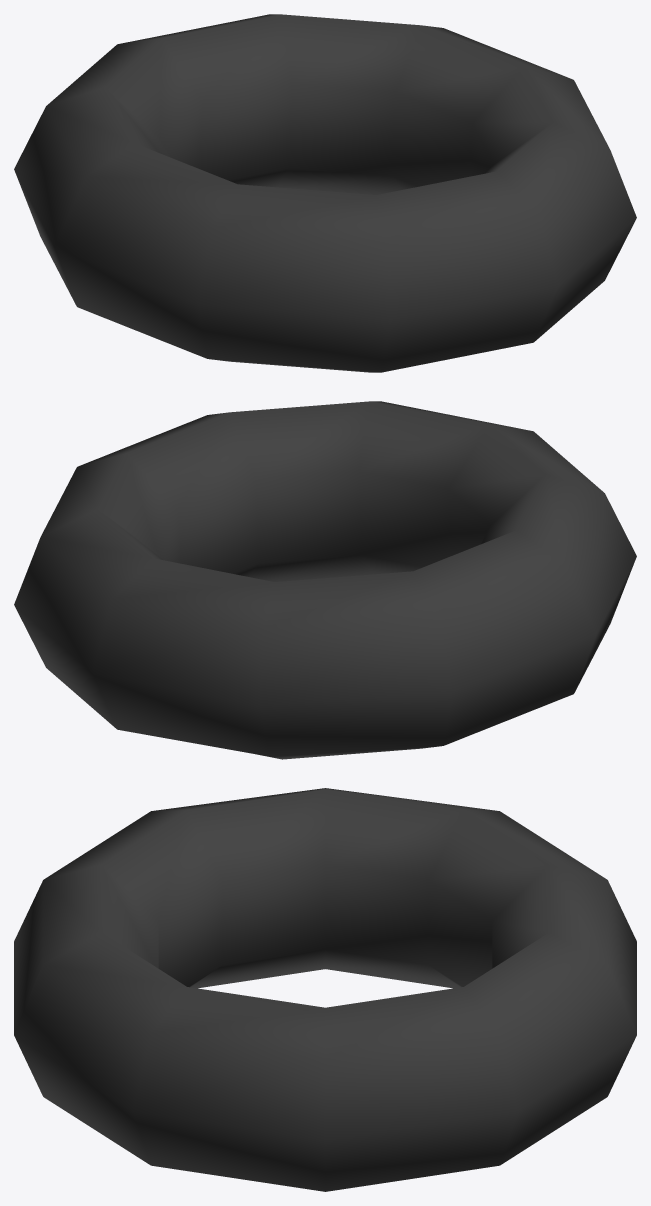
File: M_Shipwreak_Obstacle_Part_2.fbx
3 views of the same model, one above another, from view 1: azimuth 30°, elevation 25°; view 2: azimuth 150°, elevation 25°; view 3: azimuth 270°, elevation 25° (orthographic). The views are drawn at different scales.
Visible parts, largest first — view 1: M_Shipwreak_Obstacle_Part_2; view 2: M_Shipwreak_Obstacle_Part_2; view 3: M_Shipwreak_Obstacle_Part_2.
Part boxes in pixels (x1,y1,x2,y2): M_Shipwreak_Obstacle_Part_2: (14,14,636,372); M_Shipwreak_Obstacle_Part_2: (14,401,636,759); M_Shipwreak_Obstacle_Part_2: (14,788,636,1191).
Bounding box in the file's own units: 133 × 45.4 × 126.
